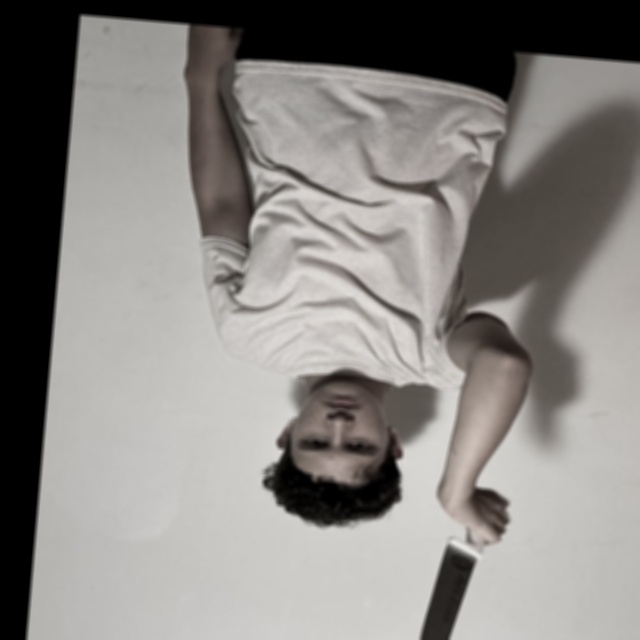Sharp-Object: (413, 551, 475, 640)
